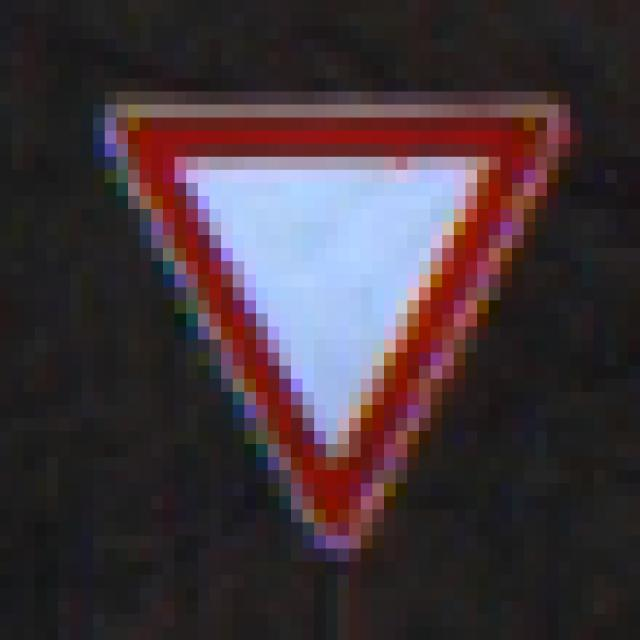Give Way: (71, 79, 583, 576)
